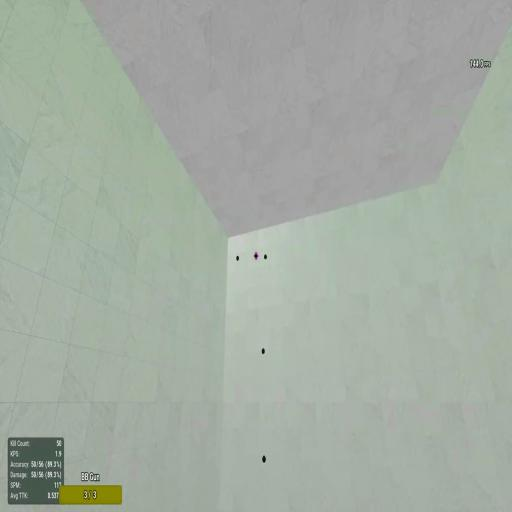Crosshair: (254, 250, 258, 260)
Target: (262, 454, 266, 464), (261, 347, 265, 355), (264, 253, 267, 260), (236, 255, 239, 261)
